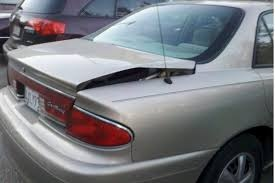Dent: (61, 64, 196, 109)
